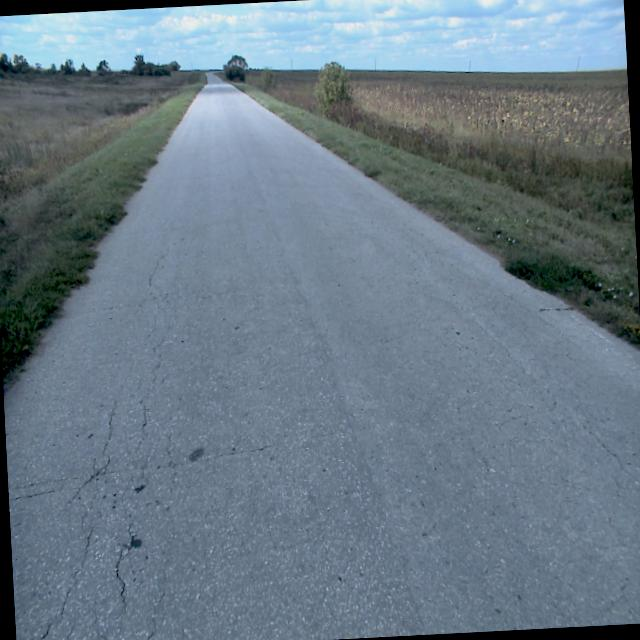road: (3, 71, 640, 640)
